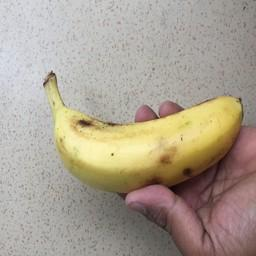Good_banana: (38, 67, 243, 203)
